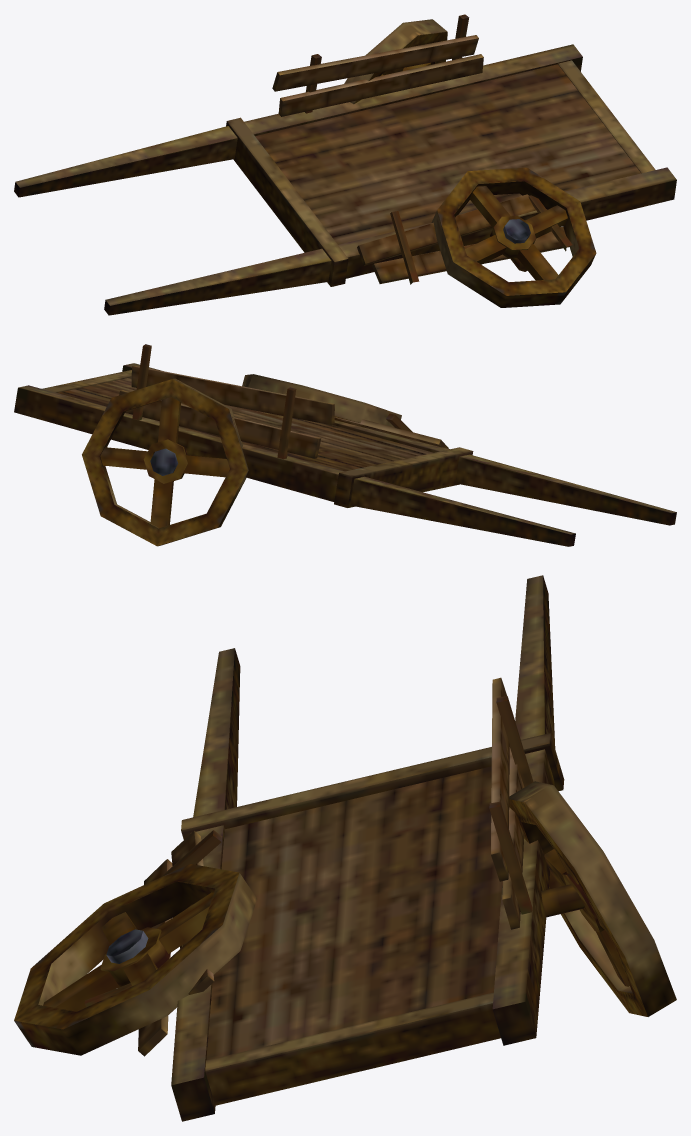
Rendered from b_general_obj_21_1.glb.
The picture shows the model from 3 angles, top to bottom: view 1: azimuth 30°, elevation 25°; view 2: azimuth 150°, elevation 25°; view 3: azimuth 270°, elevation 25°; orthographic projection. The views are drawn at different scales.
Parts seen in each view (by area): view 1: Sphere02; view 2: Sphere02; view 3: Sphere02.
Boxes of the visible parts, box(x1,y1,x2,y2) form: Sphere02: box(14, 14, 676, 315); Sphere02: box(14, 344, 676, 546); Sphere02: box(14, 575, 676, 1121).
Size of the model in its own units: 4.87 by 1.44 by 3.09.
1 material, 1 textured.
